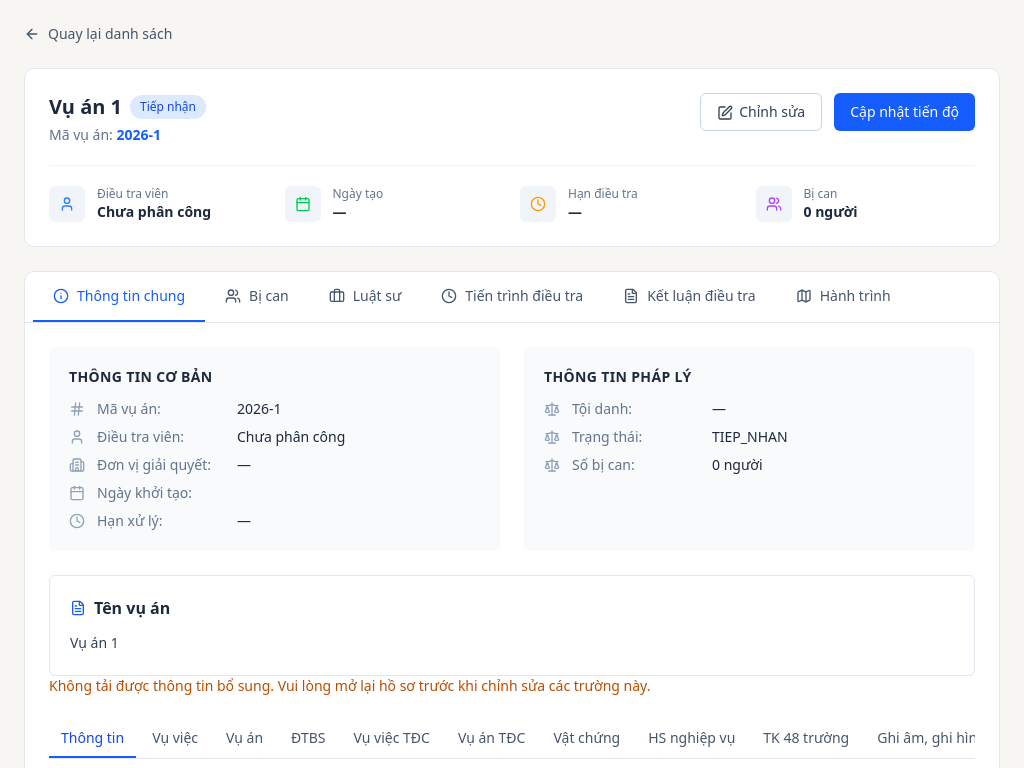
Test: Chi tiết vụ án — chỉ xem thì ẩn nút ghi › quyenGhi = true → có Chỉnh sửa và Thêm kết luận, không có nhãn Chỉ xem
Expected: the button with test id "btn-edit-case" is shown, [700,93,822,131]
Expected: the button with test id "btn-update-progress" is shown, [834,93,975,131]
Click the tab "Kết luận điều tra": (689, 297) [603,272,776,322]
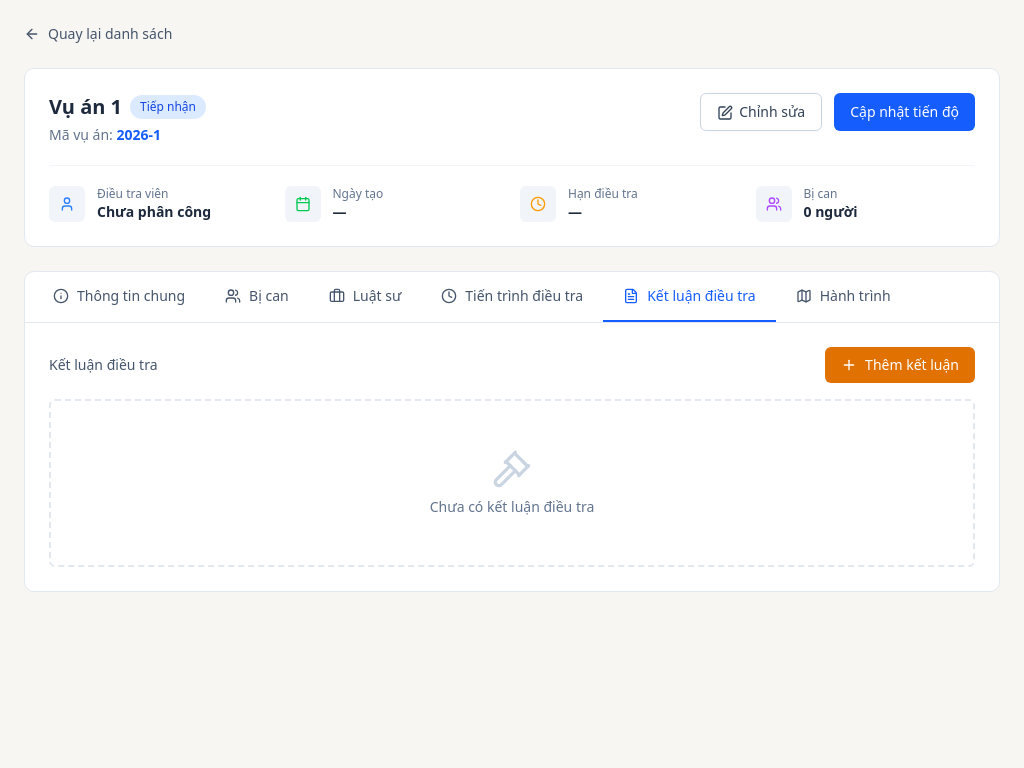
Now the button with test id "btn-add-conclusion" is shown, box [825,347,975,383]
Click the tab "Tiến trình điều tra": (512, 297) [421,272,603,322]
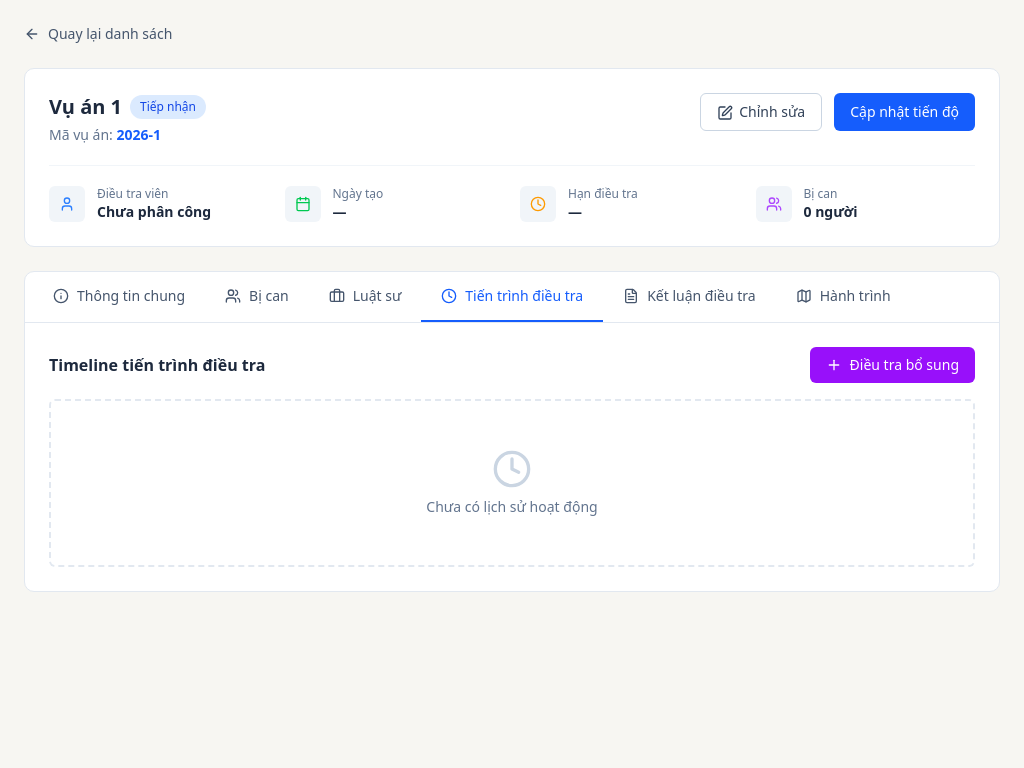
Now the button with test id "btn-supplement-investigation" is shown, box [810,347,975,383]
